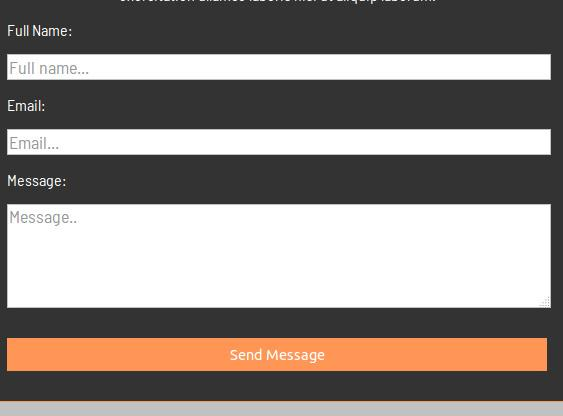button: (5, 336, 549, 373)
field: (5, 202, 551, 309), (6, 52, 553, 82), (6, 128, 552, 155)
field_with_label: (5, 171, 553, 310), (3, 23, 555, 84), (5, 99, 554, 158)
